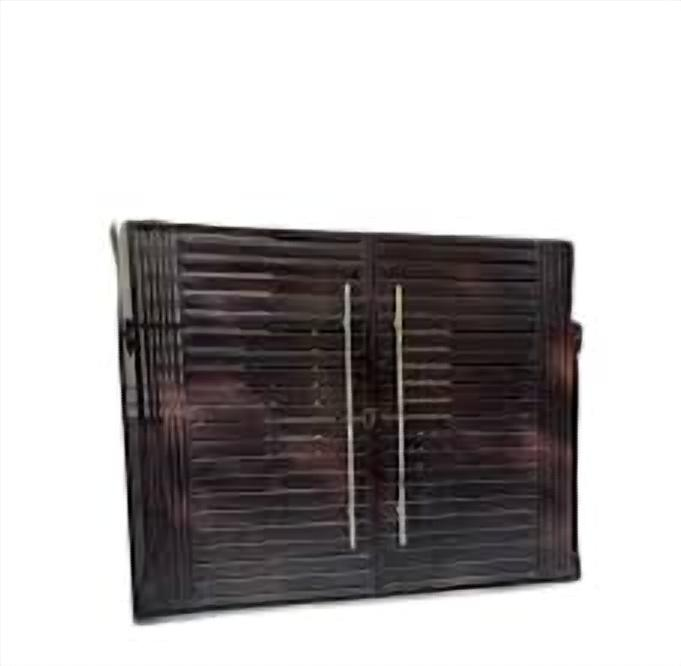Gate: (106, 213, 583, 626)
